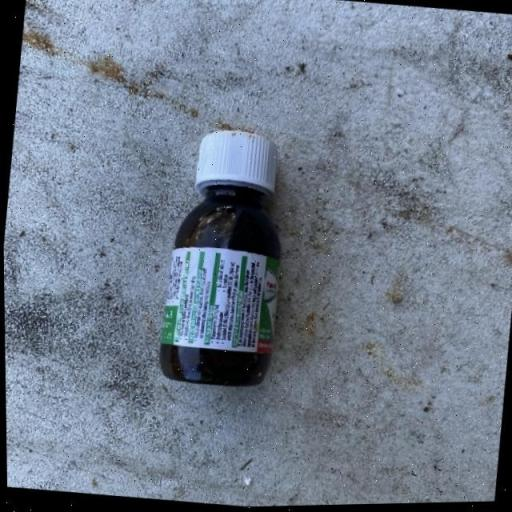plastic: (150, 123, 296, 392)
